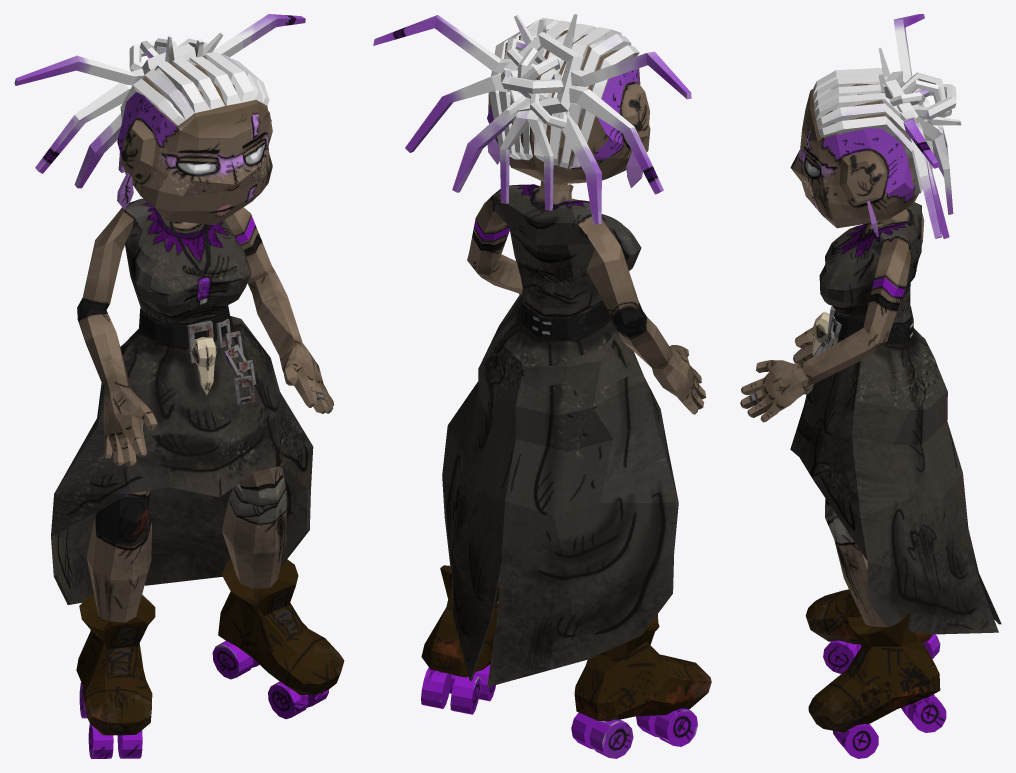
The model's file is bruja_000038.obj.
3 views of the same model, side by side, from view 1: azimuth 30°, elevation 25°; view 2: azimuth 150°, elevation 25°; view 3: azimuth 270°, elevation 25° (orthographic). The views are drawn at different scales.
Parts seen in each view (by area): view 1: Bruja_Plane.001; view 2: Bruja_Plane.001; view 3: Bruja_Plane.001.
Part boxes in pixels (x1,y1,x2,y2): Bruja_Plane.001: (14,14,344,758); Bruja_Plane.001: (373,14,711,758); Bruja_Plane.001: (740,14,1001,758).
Bounding box in the file's own units: 7.46 × 16.62 × 6.05.
